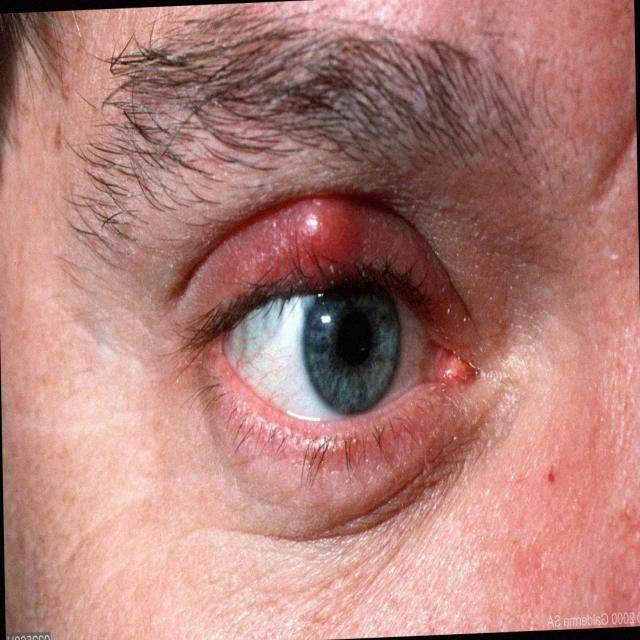Chalazion: (166, 136, 474, 534)
